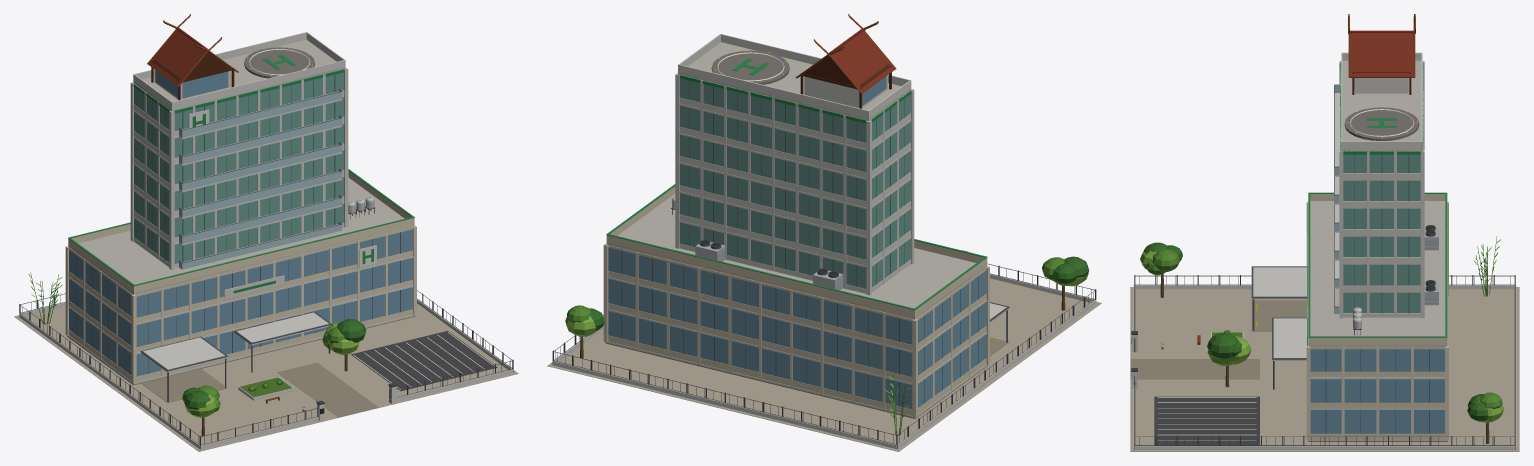
The model's file is hospital.glb.
3 renders of one model, left to right at view 1: azimuth 30°, elevation 25°; view 2: azimuth 150°, elevation 25°; view 3: azimuth 270°, elevation 25°, orthographic. The views are drawn at different scales.
Parts seen in each view (by area): view 1: body; view 2: body; view 3: body.
Boxes of the visible parts, box(x1,y1,x2,y2) form: body: box(14, 14, 518, 451); body: box(547, 14, 1101, 451); body: box(1130, 14, 1519, 451).
Size of the model in its own units: 47.9 by 44.34 by 47.9.
